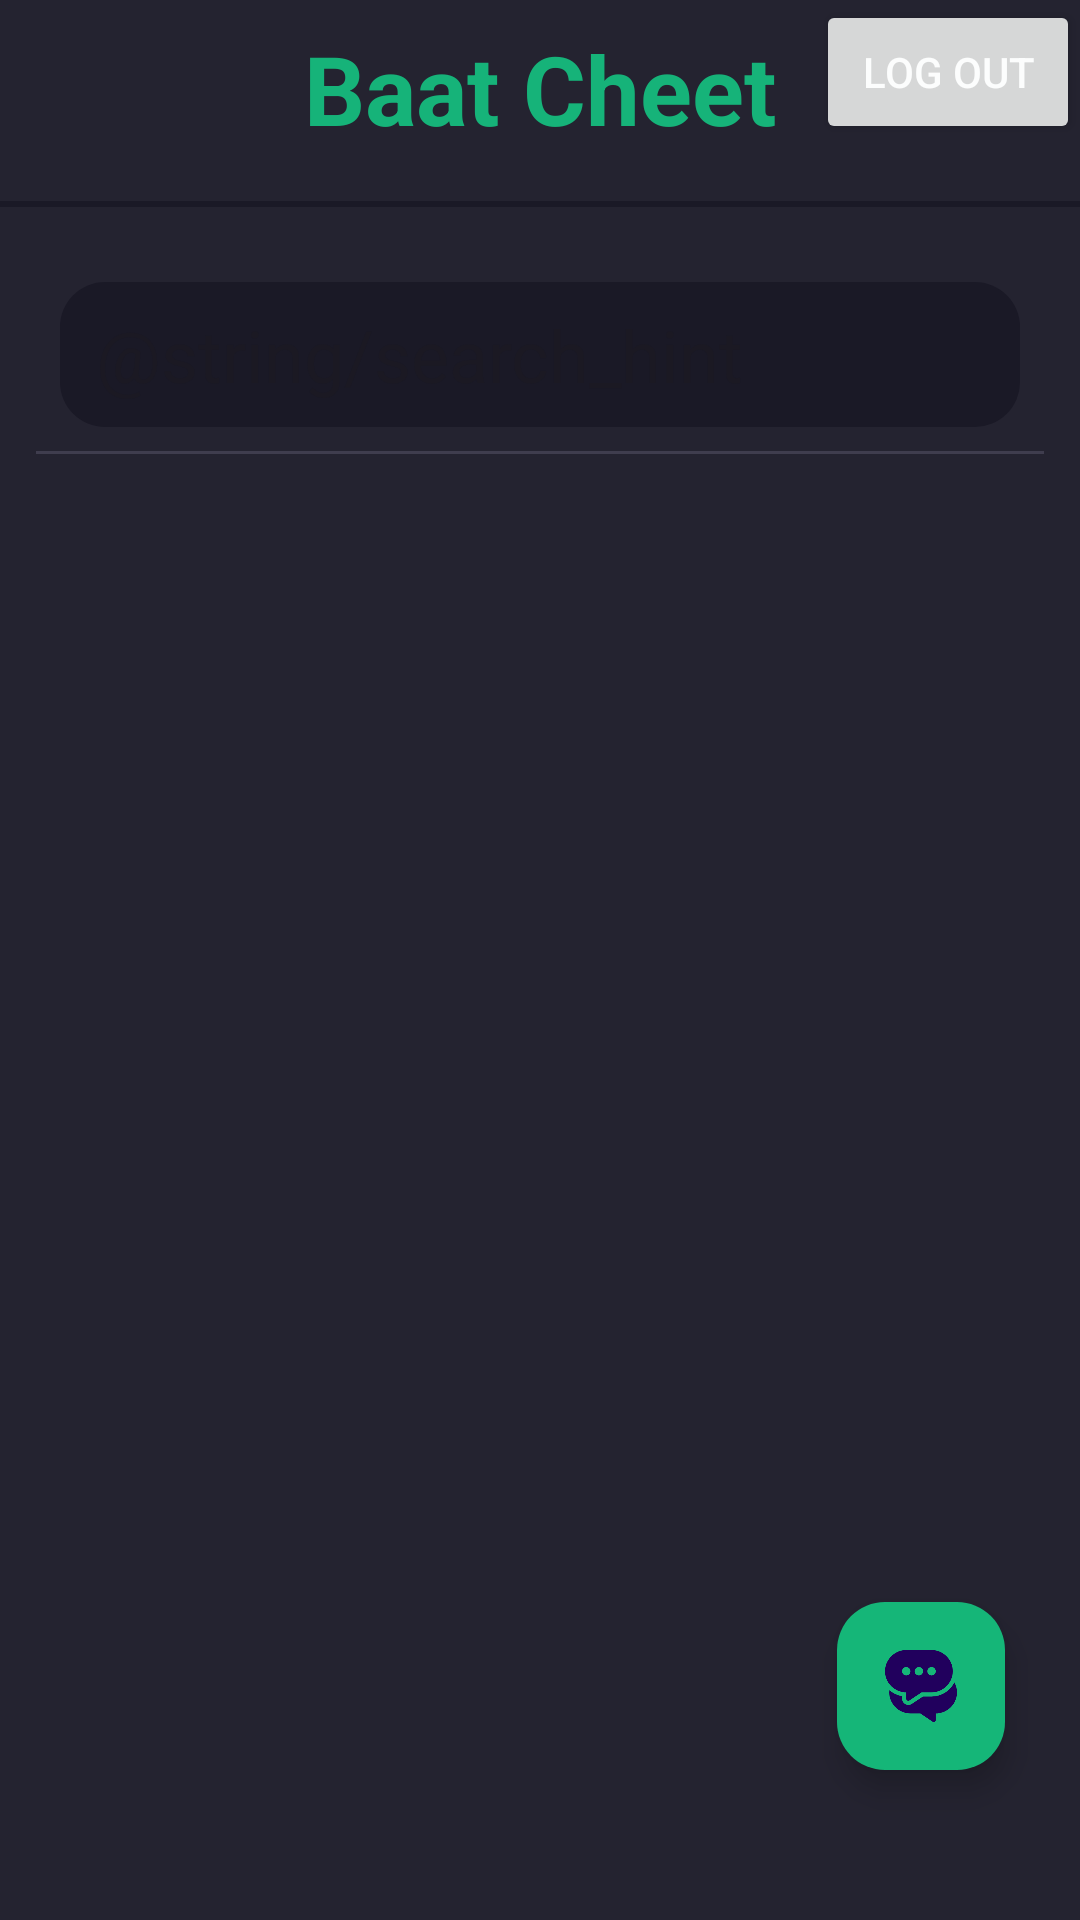

Named icons in this screenshot (1080px x 1920px) and their bounding boxes, (x1, y1, x2, y2):
start new Chats: (837, 1602, 1005, 1770)
